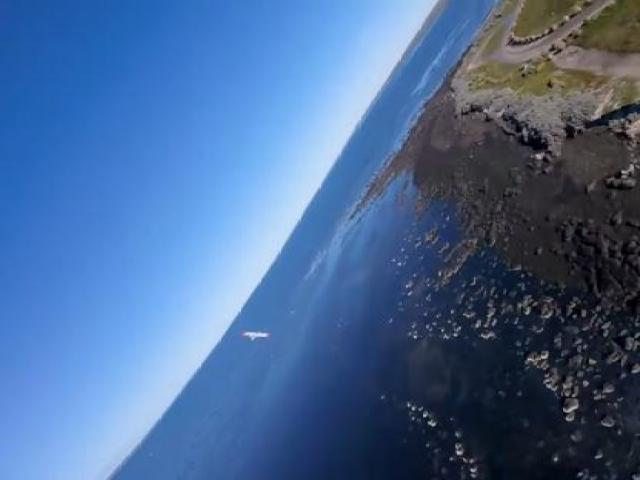uav: (238, 327, 272, 345)
